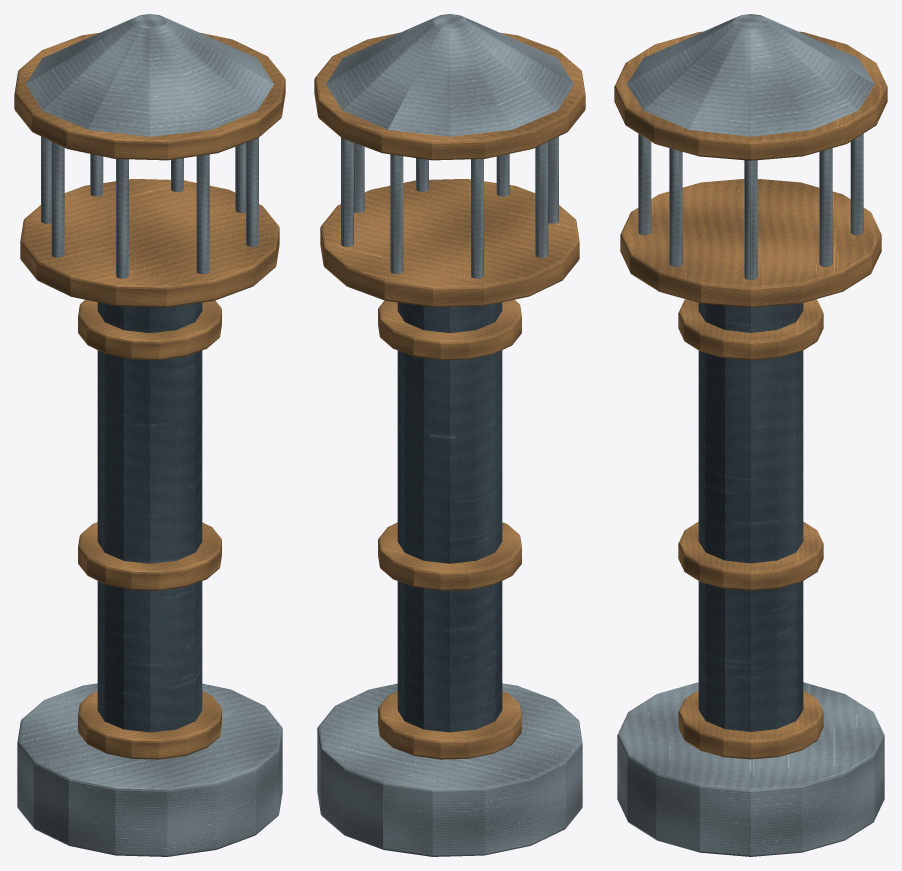
File: beacon_tower.glb
3 views of the same model, side by side, from view 1: azimuth 30°, elevation 25°; view 2: azimuth 150°, elevation 25°; view 3: azimuth 270°, elevation 25° (orthographic).
Visible parts, largest first — view 1: beacon_tower; view 2: beacon_tower; view 3: beacon_tower.
Boxes of the visible parts, left/top/right/bottom form: beacon_tower: left=14, top=14, right=285, bottom=856; beacon_tower: left=314, top=14, right=585, bottom=856; beacon_tower: left=614, top=14, right=887, bottom=856.
Size of the model in its own units: 1.88 by 5.92 by 1.88.
3 materials, 3 textured.
